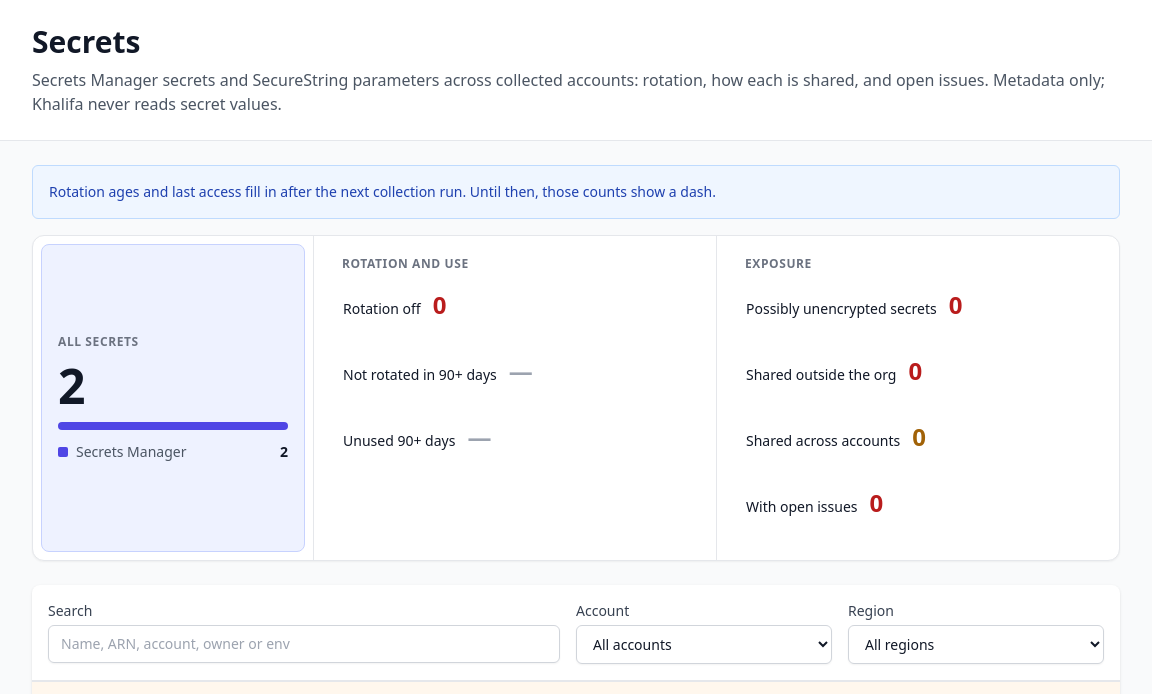
Scenario: SecretsPage › filters by account and region next to search, and searches owners
Select "us-east-1" in the dropdown labelled "Region" at (976, 644), box [848,625,1104,664]
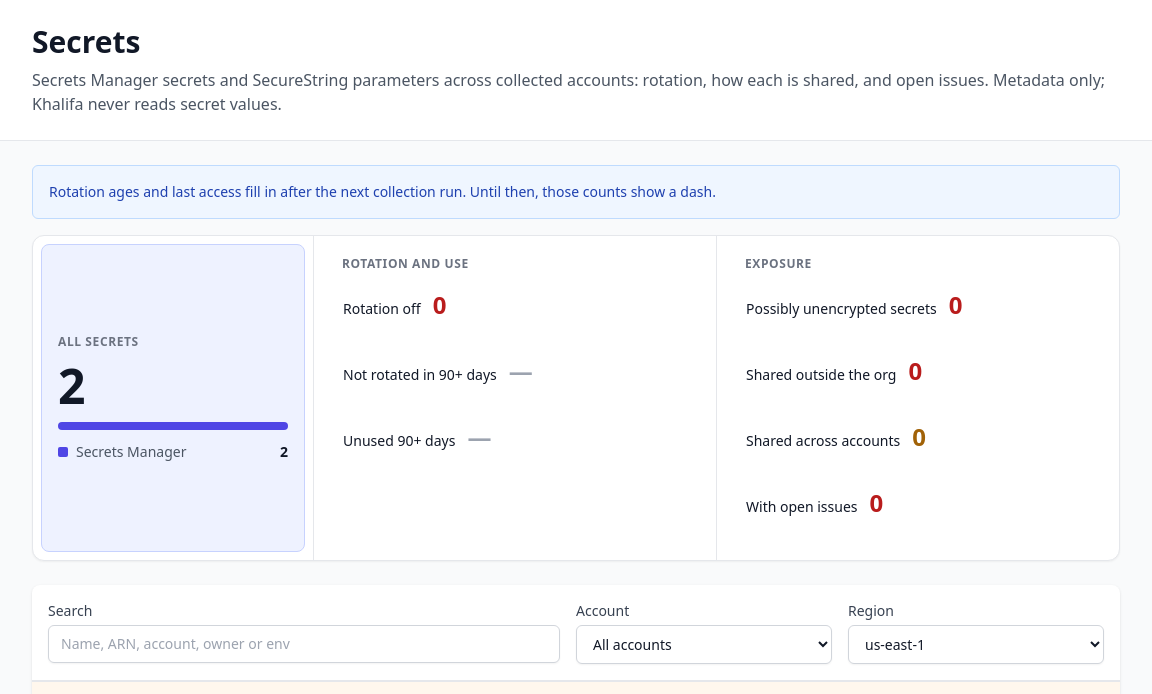
Select "All regions" in the dropdown labelled "Region" at (976, 644), box [848,625,1104,664]
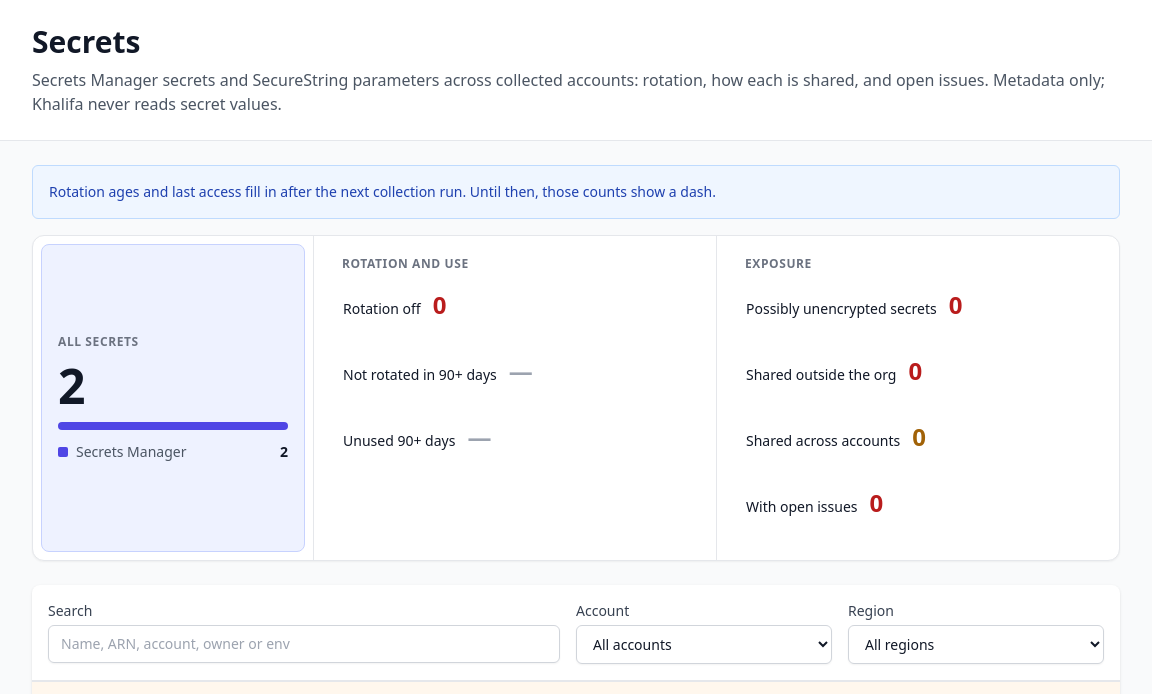
Select "payments-prod" in the dropdown labelled "Account" at (704, 644), box [576,625,832,664]
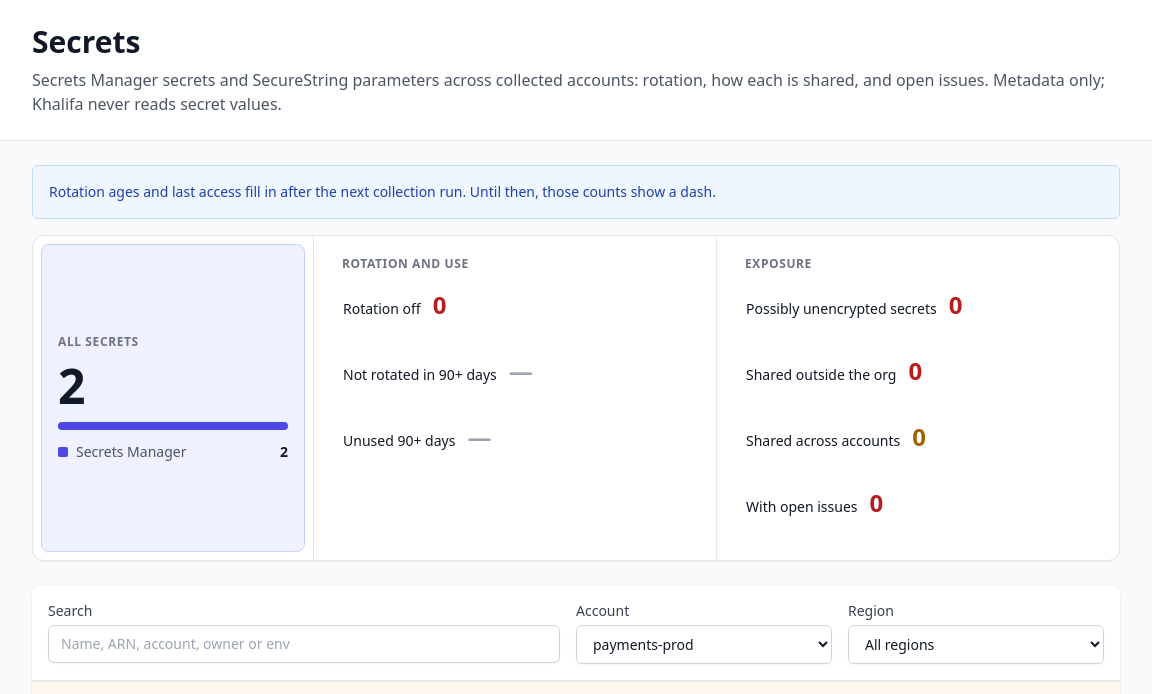
Expected: the table "east" is not shown
Select "All accounts" in the dropdown labelled "Account" at (704, 644), box [576,625,832,664]
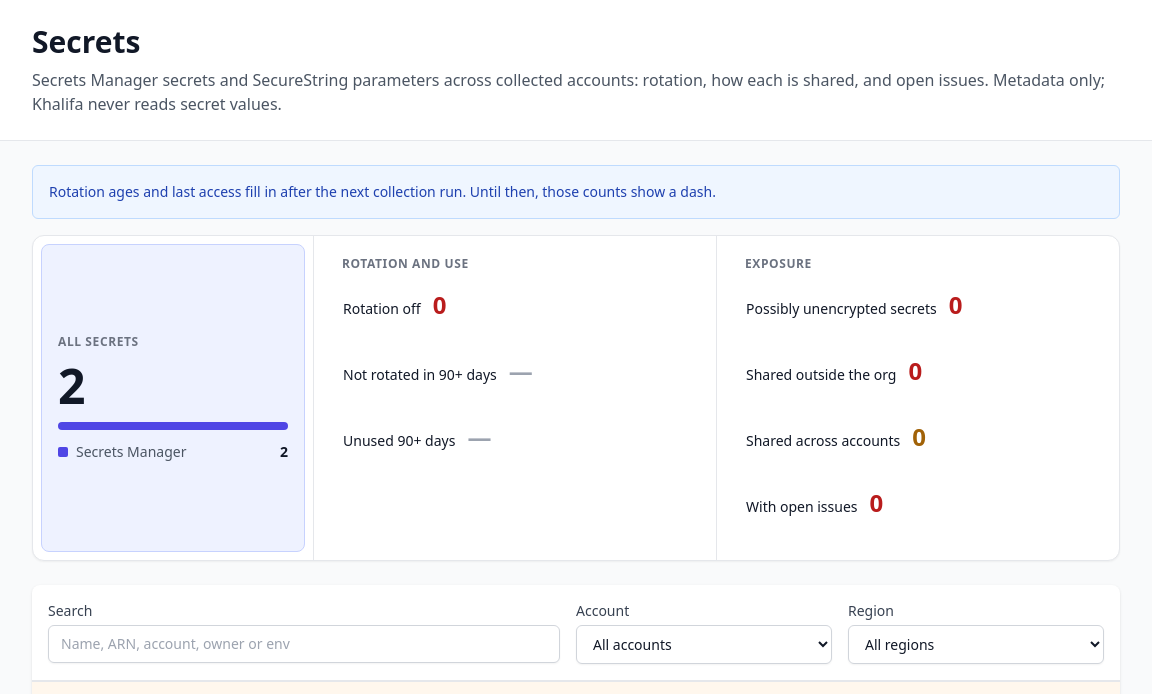
Type "growth" into the search field labelled "Search" at (304, 644), box [48,625,560,663]
(page scrolled)
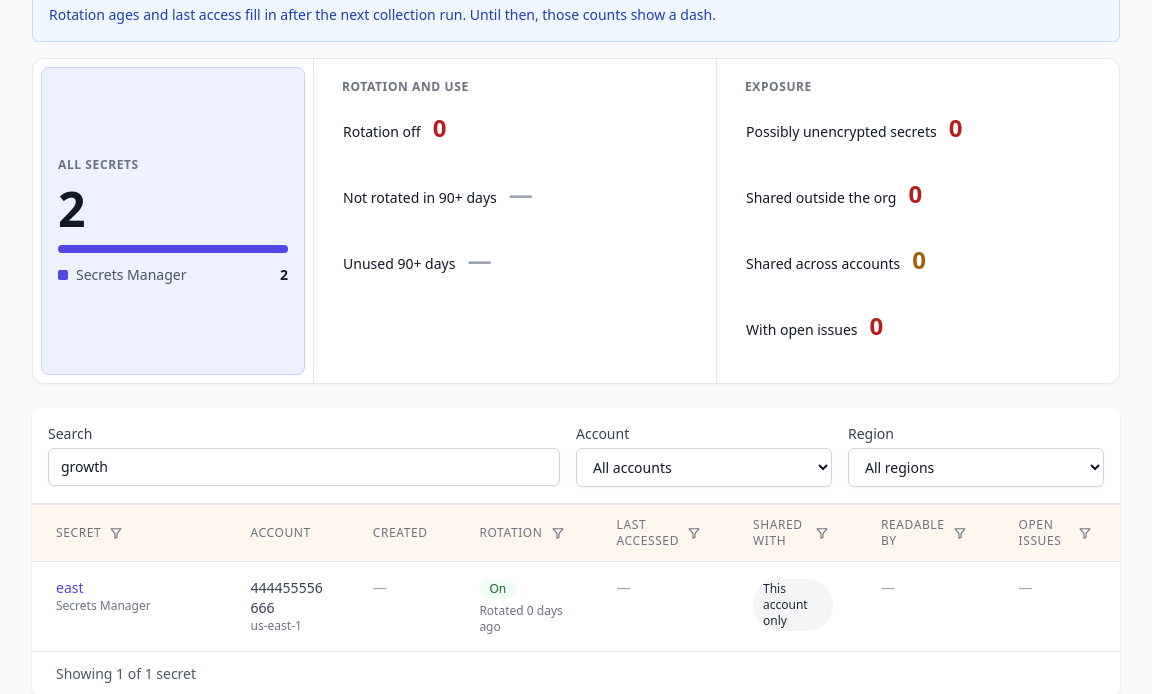
Now the text "Showing 1 of 1 secret" is shown, box [56,664,196,684]
